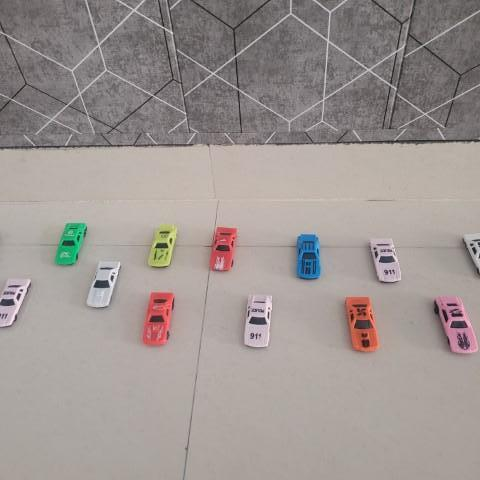car: (434, 291, 480, 354), (344, 292, 384, 353), (139, 287, 177, 346), (367, 232, 403, 286), (85, 259, 123, 308), (50, 218, 87, 266), (245, 291, 273, 350), (145, 220, 179, 267), (209, 223, 241, 272), (294, 229, 324, 281)
